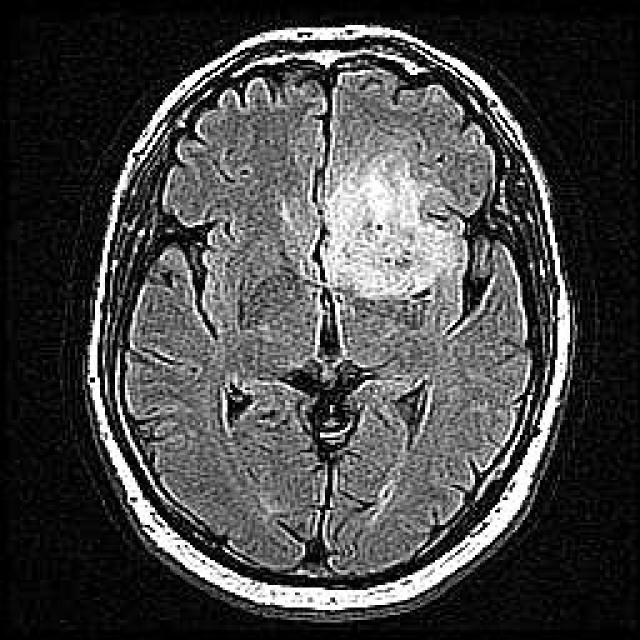Tumor-Cell: (316, 132, 446, 326)
